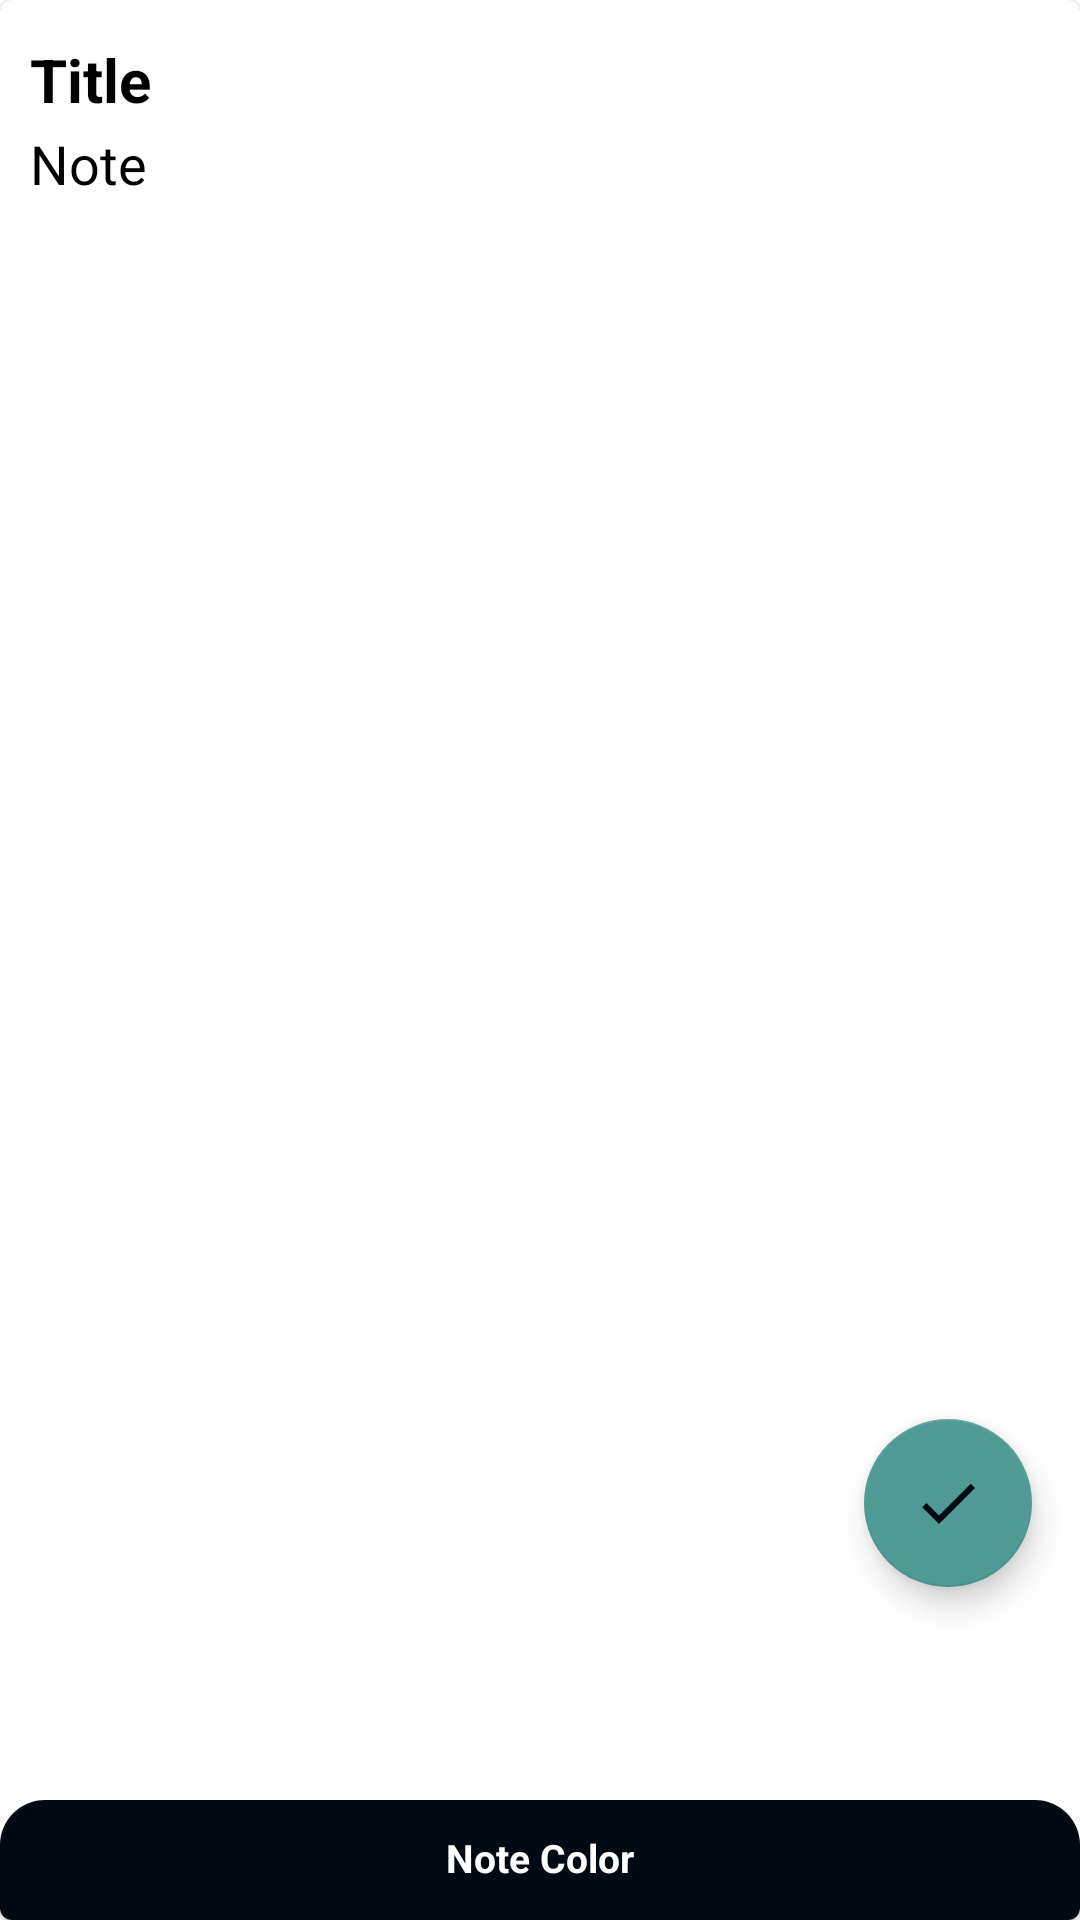

Named icons in this screenshot (1080px x 1920px) and their bounding boxes, (x1, y1, x2, y2):
check: (864, 1419, 1032, 1587)
